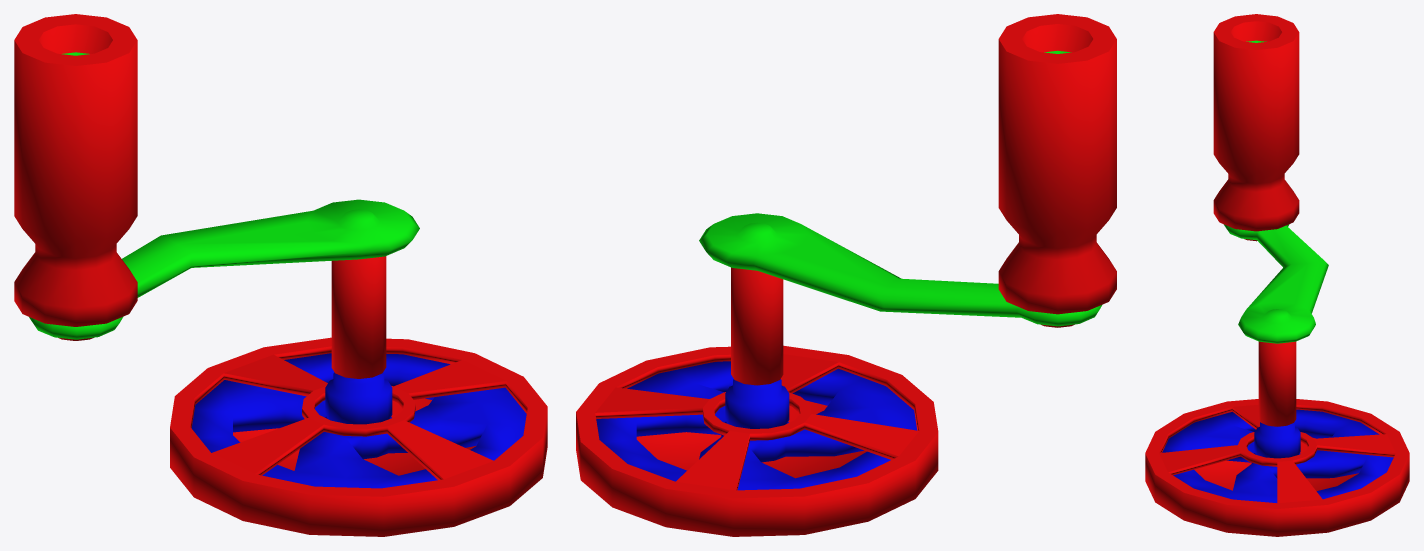
Rendered from Crank_2.0.fbx.
3 renders of one model, left to right at view 1: azimuth 30°, elevation 25°; view 2: azimuth 150°, elevation 25°; view 3: azimuth 270°, elevation 25°, orthographic. The views are drawn at different scales.
Visible parts, largest first — view 1: mesh_crank_handle, mesh_crank_base, mesh_crank_gear; view 2: mesh_crank_handle, mesh_crank_base, mesh_crank_gear; view 3: mesh_crank_handle, mesh_crank_base, mesh_crank_gear.
Part boxes in pixels (x1,y1,x2,y2): mesh_crank_handle: [14, 14, 419, 378]; mesh_crank_base: [170, 337, 547, 536]; mesh_crank_gear: [191, 353, 526, 488]; mesh_crank_handle: [699, 14, 1116, 385]; mesh_crank_base: [576, 345, 938, 536]; mesh_crank_gear: [596, 361, 917, 490]; mesh_crank_handle: [1213, 14, 1328, 426]; mesh_crank_base: [1145, 399, 1409, 536]; mesh_crank_gear: [1162, 409, 1393, 502].
Size of the model in its own units: 469 by 435 by 300.
